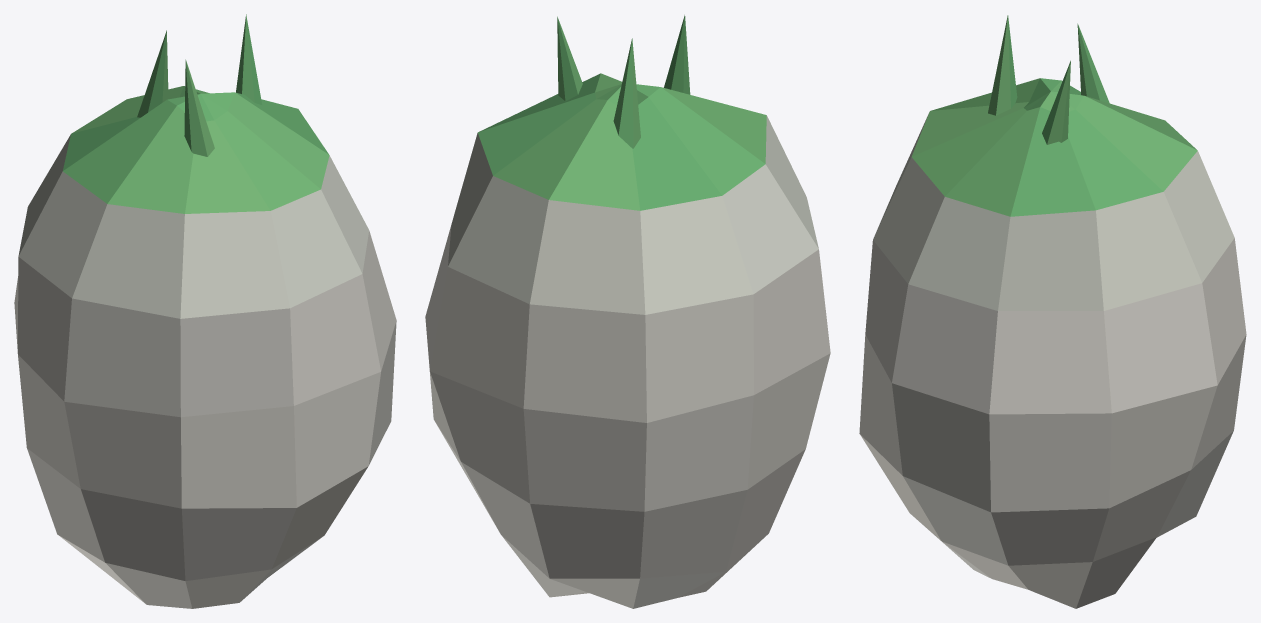
Rendered from Garlic.glb.
The picture shows the model from 3 angles, left to right: view 1: azimuth 30°, elevation 25°; view 2: azimuth 150°, elevation 25°; view 3: azimuth 270°, elevation 25°; orthographic projection. The views are drawn at different scales.
Visible parts, largest first — view 1: Garlic; view 2: Garlic; view 3: Garlic.
Boxes of the visible parts, bbox=[...] form: Garlic: bbox=[14, 14, 396, 608]; Garlic: bbox=[425, 15, 830, 608]; Garlic: bbox=[859, 15, 1246, 608].
Bounding box in the file's own units: 0.3472 × 0.549 × 0.3513.
